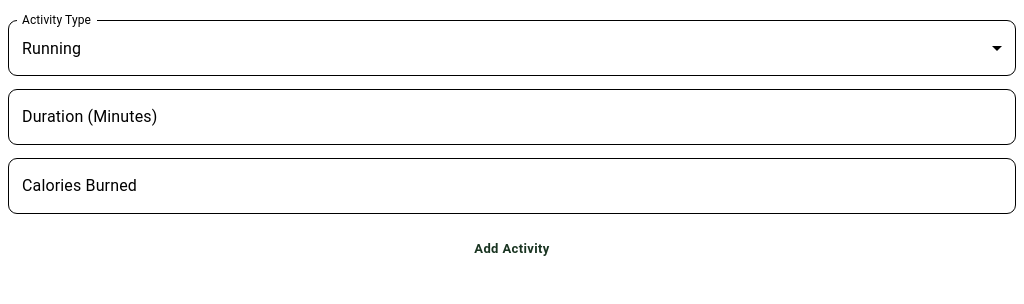
Test case: activity entry and history refresh › keeps entered values and displays an error when saving fails
Type "35" into the number field labelled "Duration (Minutes)" at (512, 117), box [8,89,1016,145]
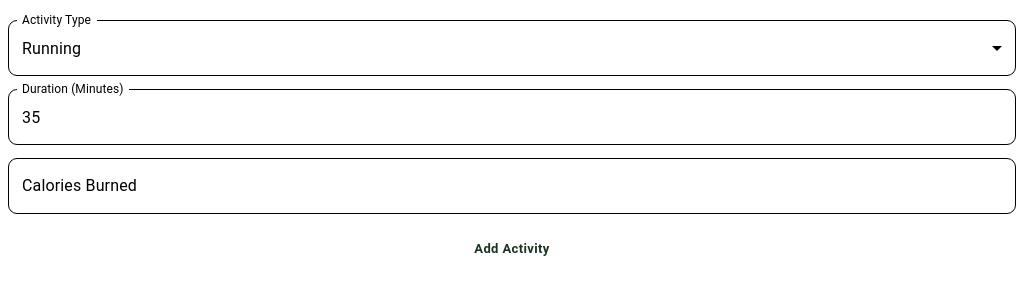
Submit the form "Add Activity"
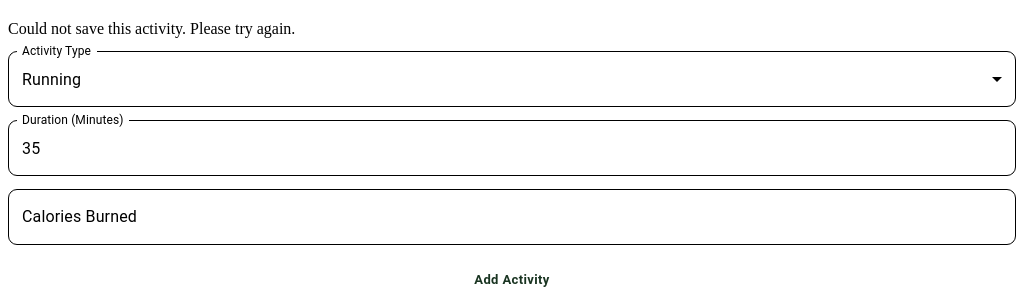
Expected: the message reads "Could not save this activity. Please try again.", [8,20,295,37]
